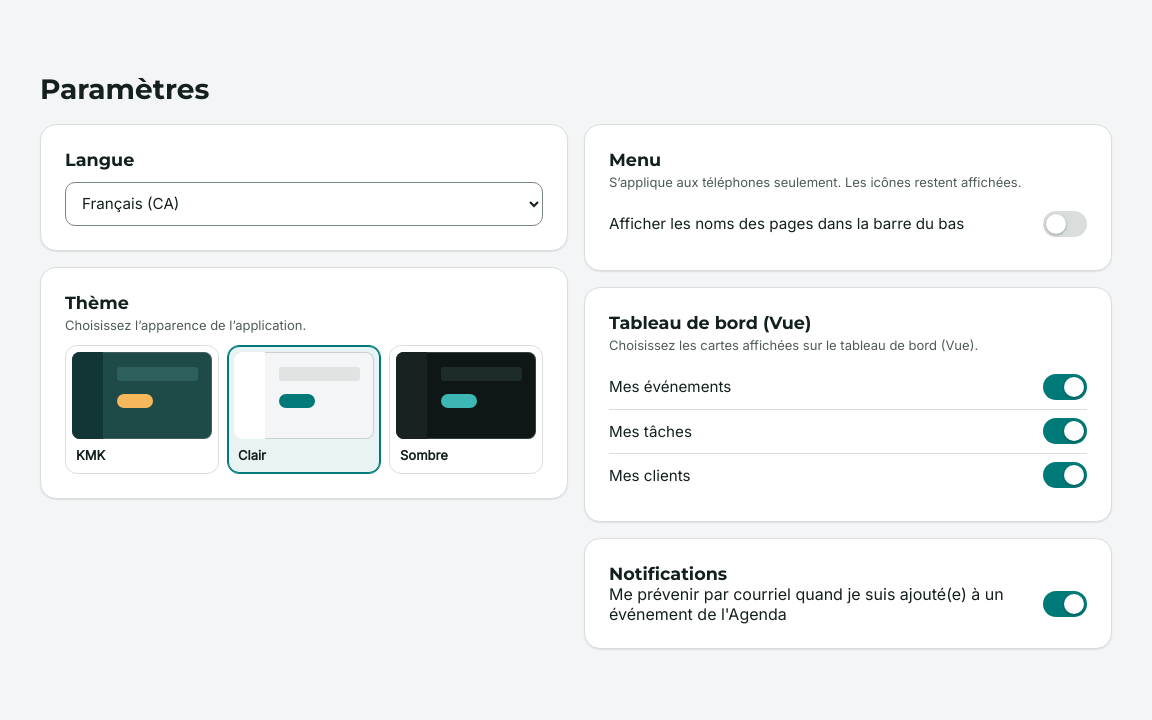
Test: Settings page › has a switch per Dashboard card, on by default, and saves a change to the account
expect the switch labelled "Mes événements" is checked: met, box [609,374,1087,400]
Click the switch labelled "Mes tâches" at point(650, 431), box [609,409,1087,453]
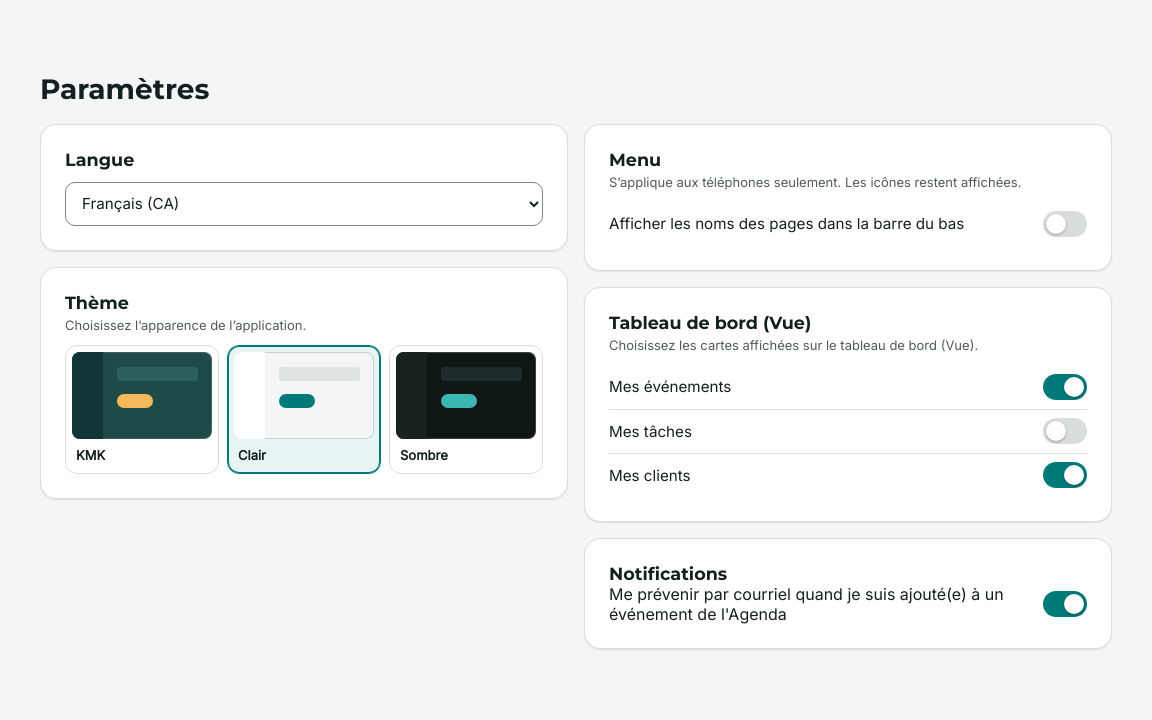
expect the switch labelled "Mes tâches" is not checked: met, box [609,409,1087,453]
